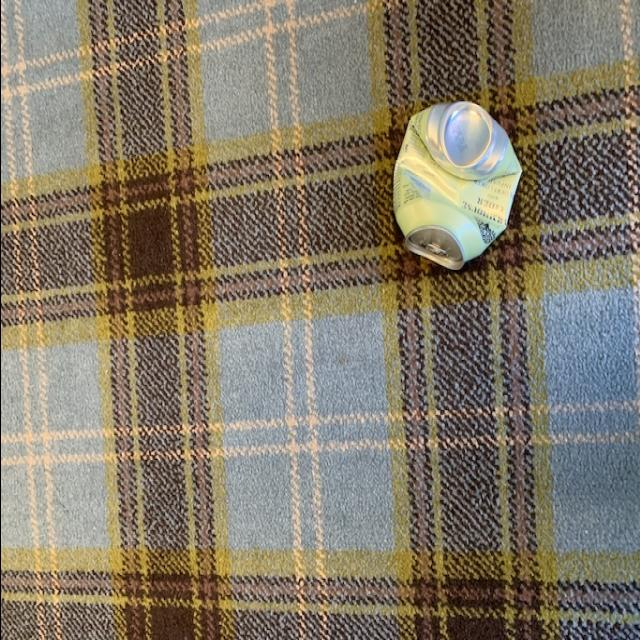Aluminum Can: (390, 99, 521, 272)
